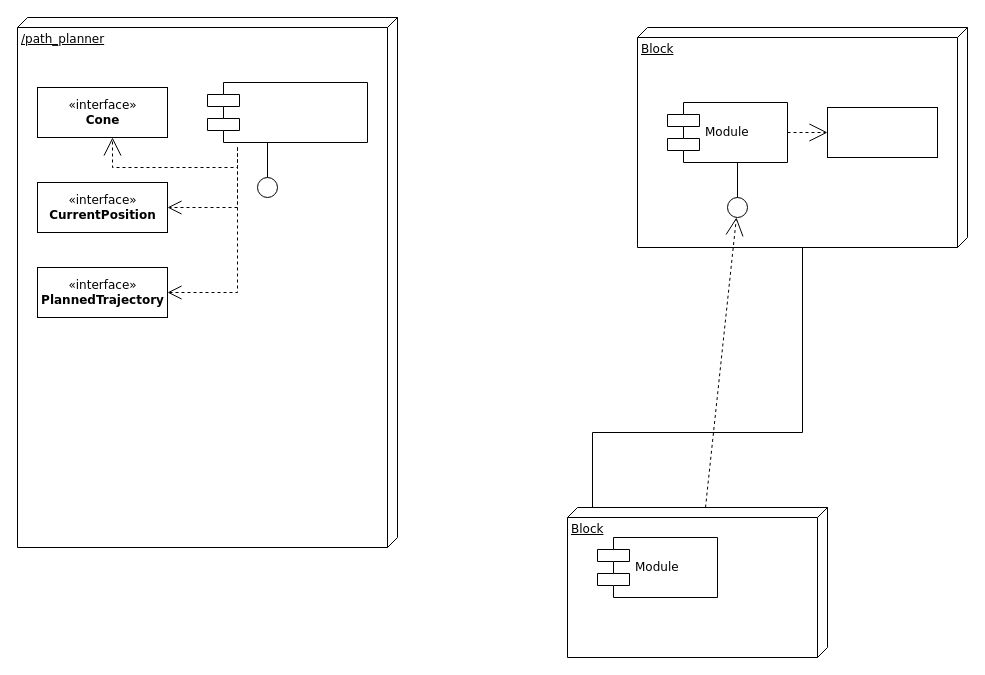
Some shapes in this 985 by 675 pixel diagram are drawn without their labels. Each missing label, with the centre of its shape:
"fszhaw_msgs.msg" belongs at [287,112].
"«interface» Name" belongs at [882,132].
